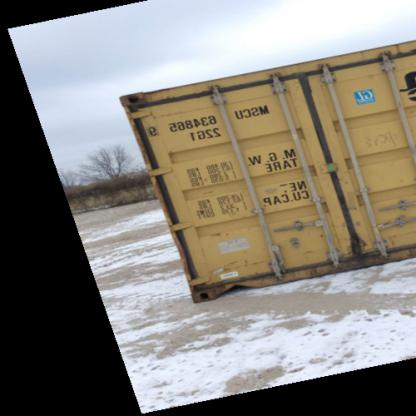Damage: (340, 227, 370, 269), (210, 252, 267, 274), (358, 127, 399, 154), (124, 93, 152, 113), (200, 226, 232, 240), (196, 181, 224, 197)
